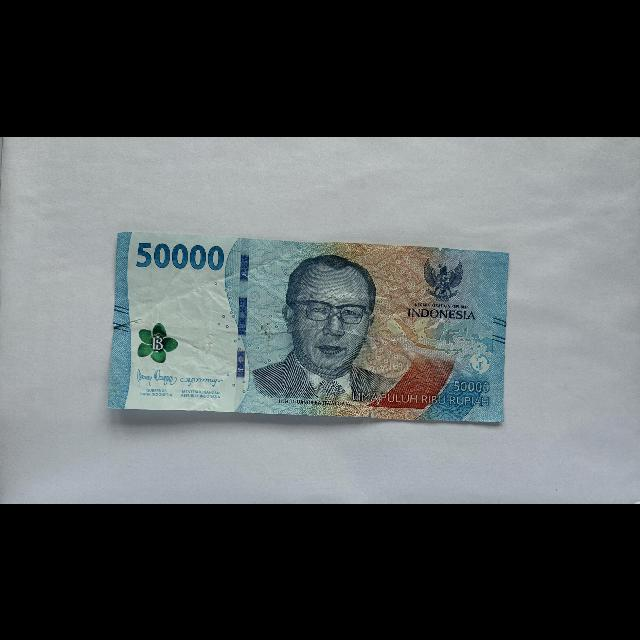Asli-50k: (105, 229, 516, 431)
Tinta-Asli-50k: (137, 321, 179, 364)
